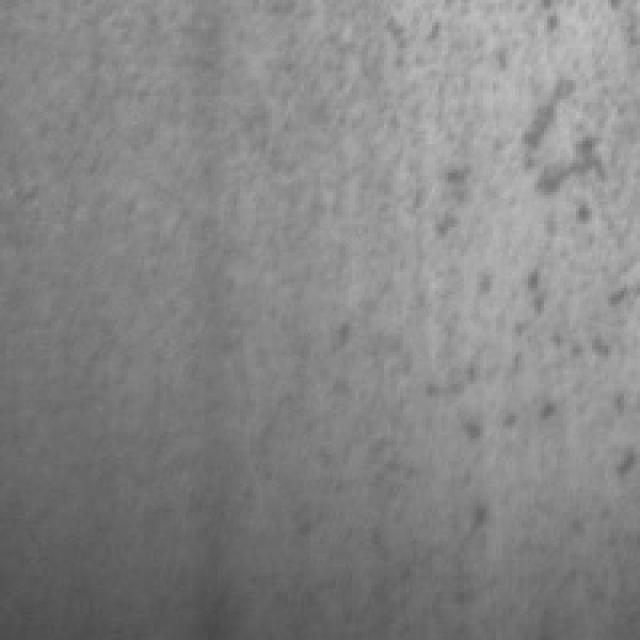pitted_surface: (32, 0, 630, 621)
